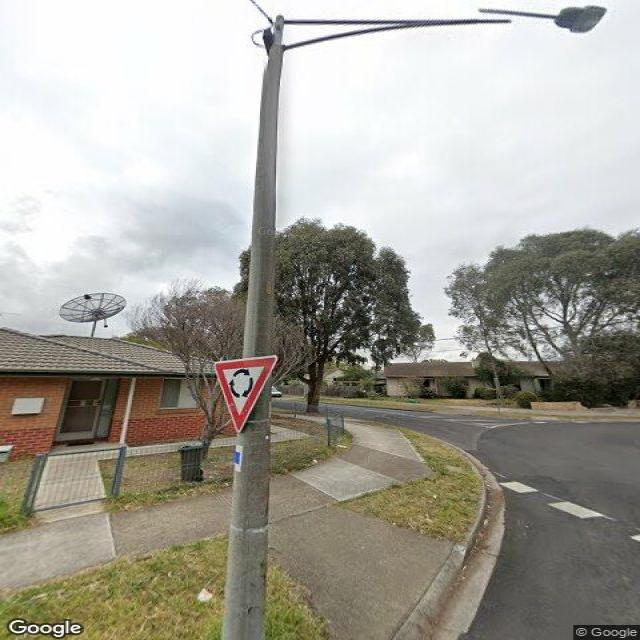concrete-pole: (225, 16, 287, 640)
light pole: (267, 5, 610, 55)
